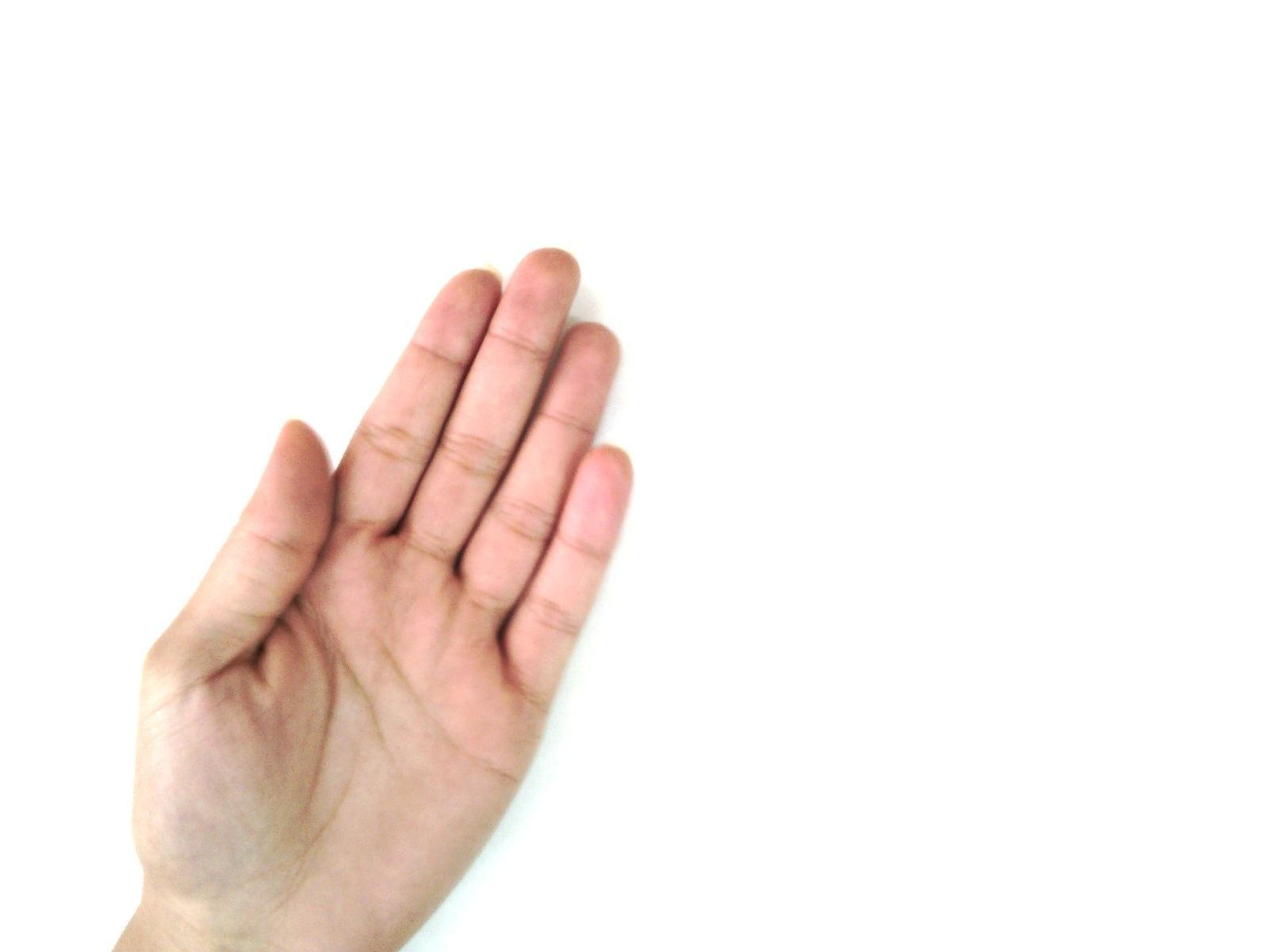open_palm: (115, 246, 638, 951)
